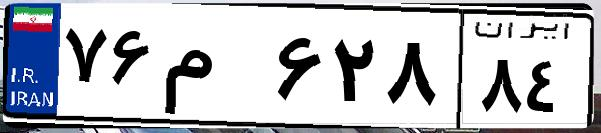2: (330, 28, 385, 110)
4: (525, 38, 570, 115)
6: (270, 28, 330, 110), (110, 28, 158, 98)
7: (57, 26, 110, 100)
8: (385, 28, 445, 110), (475, 38, 525, 113)
م: (158, 20, 270, 120)
